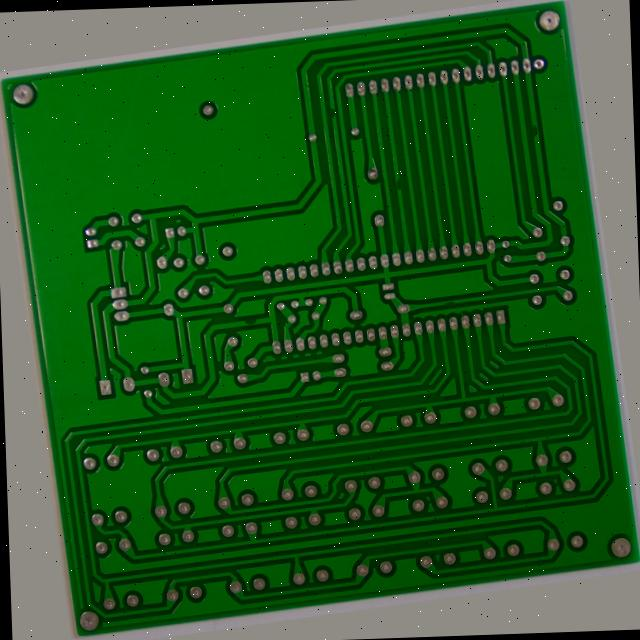mouse_bite: (229, 304, 255, 319), (567, 125, 583, 147), (413, 168, 428, 188), (347, 83, 363, 101), (452, 307, 470, 322)
